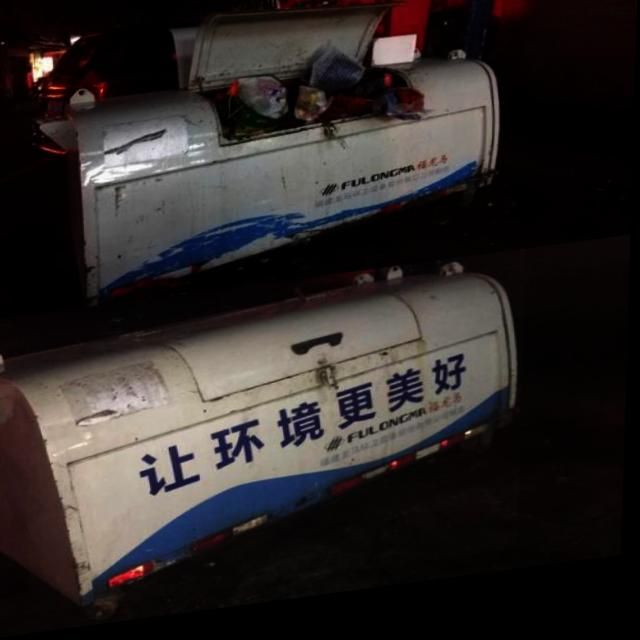garbage_bin: (0, 264, 528, 620)
overflow: (34, 35, 505, 316)
